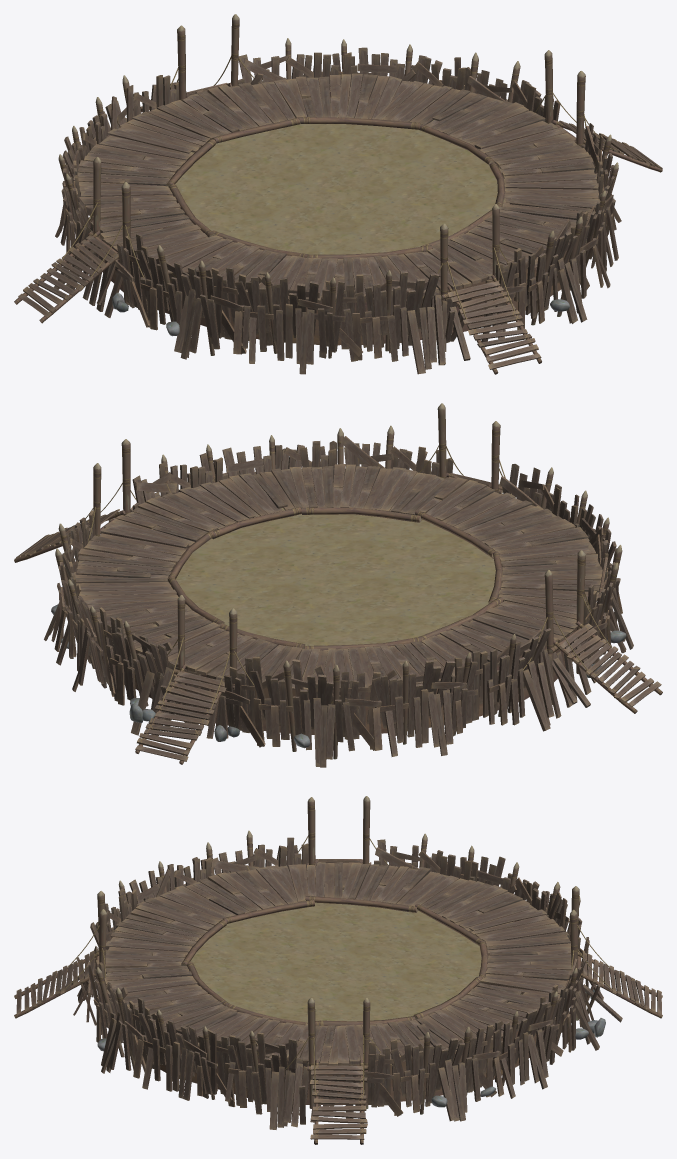
The model's file is Stages_Build_HiliArena01_Lod0 (merge).fbx.
3 renders of one model, top to bottom at view 1: azimuth 30°, elevation 25°; view 2: azimuth 150°, elevation 25°; view 3: azimuth 270°, elevation 25°, orthographic. The views are drawn at different scales.
Visible parts, largest first — view 1: Stages_Build_HiliArena01, Stages_Build_HiliArena02; view 2: Stages_Build_HiliArena01, Stages_Build_HiliArena02; view 3: Stages_Build_HiliArena01, Stages_Build_HiliArena02.
Part boxes in pixels (x1,y1,x2,y2): Stages_Build_HiliArena01: (14, 14, 662, 374); Stages_Build_HiliArena02: (175, 103, 589, 271); Stages_Build_HiliArena01: (14, 403, 662, 767); Stages_Build_HiliArena02: (152, 492, 544, 677); Stages_Build_HiliArena01: (14, 796, 662, 1144); Stages_Build_HiliArena02: (147, 886, 522, 1066).
Size of the model in its own units: 5437 by 1232 by 5437.
